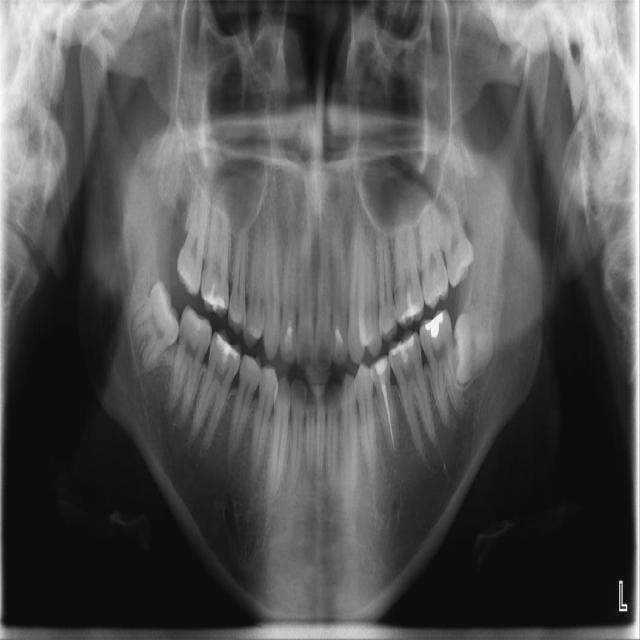Filling: (389, 334, 417, 364), (215, 331, 239, 363), (329, 327, 348, 367), (279, 323, 297, 364), (370, 353, 391, 386), (201, 284, 224, 310), (423, 311, 445, 337), (189, 312, 208, 340), (400, 302, 423, 322)
Root Canal Treatment: (381, 382, 394, 449)
impacted tooth: (129, 281, 177, 374), (455, 304, 497, 384)
